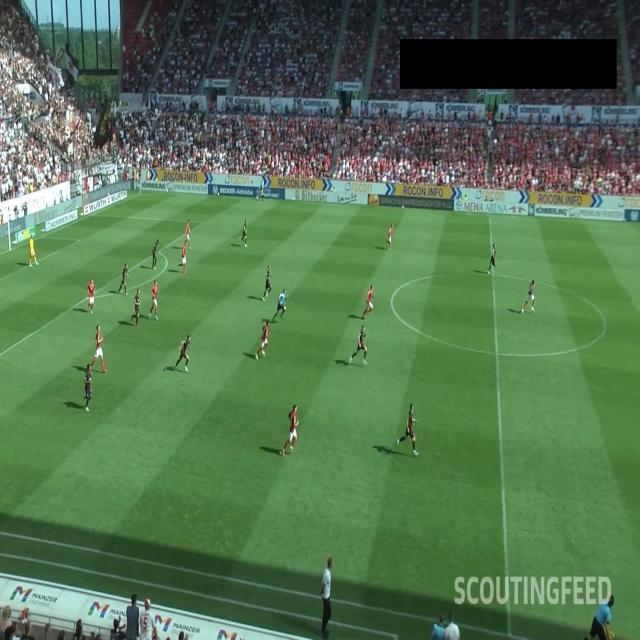ball: (493, 138, 498, 145)
